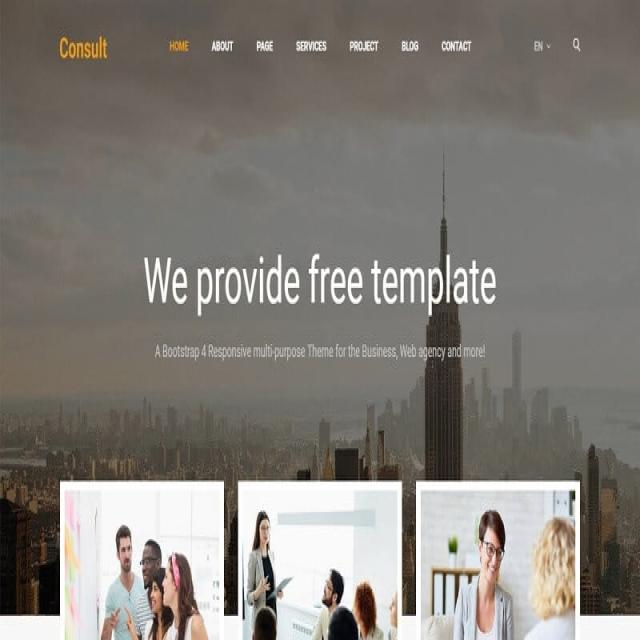buttons: (296, 37, 329, 57), (167, 37, 189, 59), (440, 41, 472, 56), (351, 38, 378, 55), (402, 35, 422, 55), (212, 34, 232, 53), (256, 35, 274, 52), (570, 36, 583, 56)
container: (238, 478, 402, 640), (416, 478, 578, 640), (60, 480, 224, 640)
dropdown: (529, 40, 552, 54)
text: (142, 249, 502, 315)
